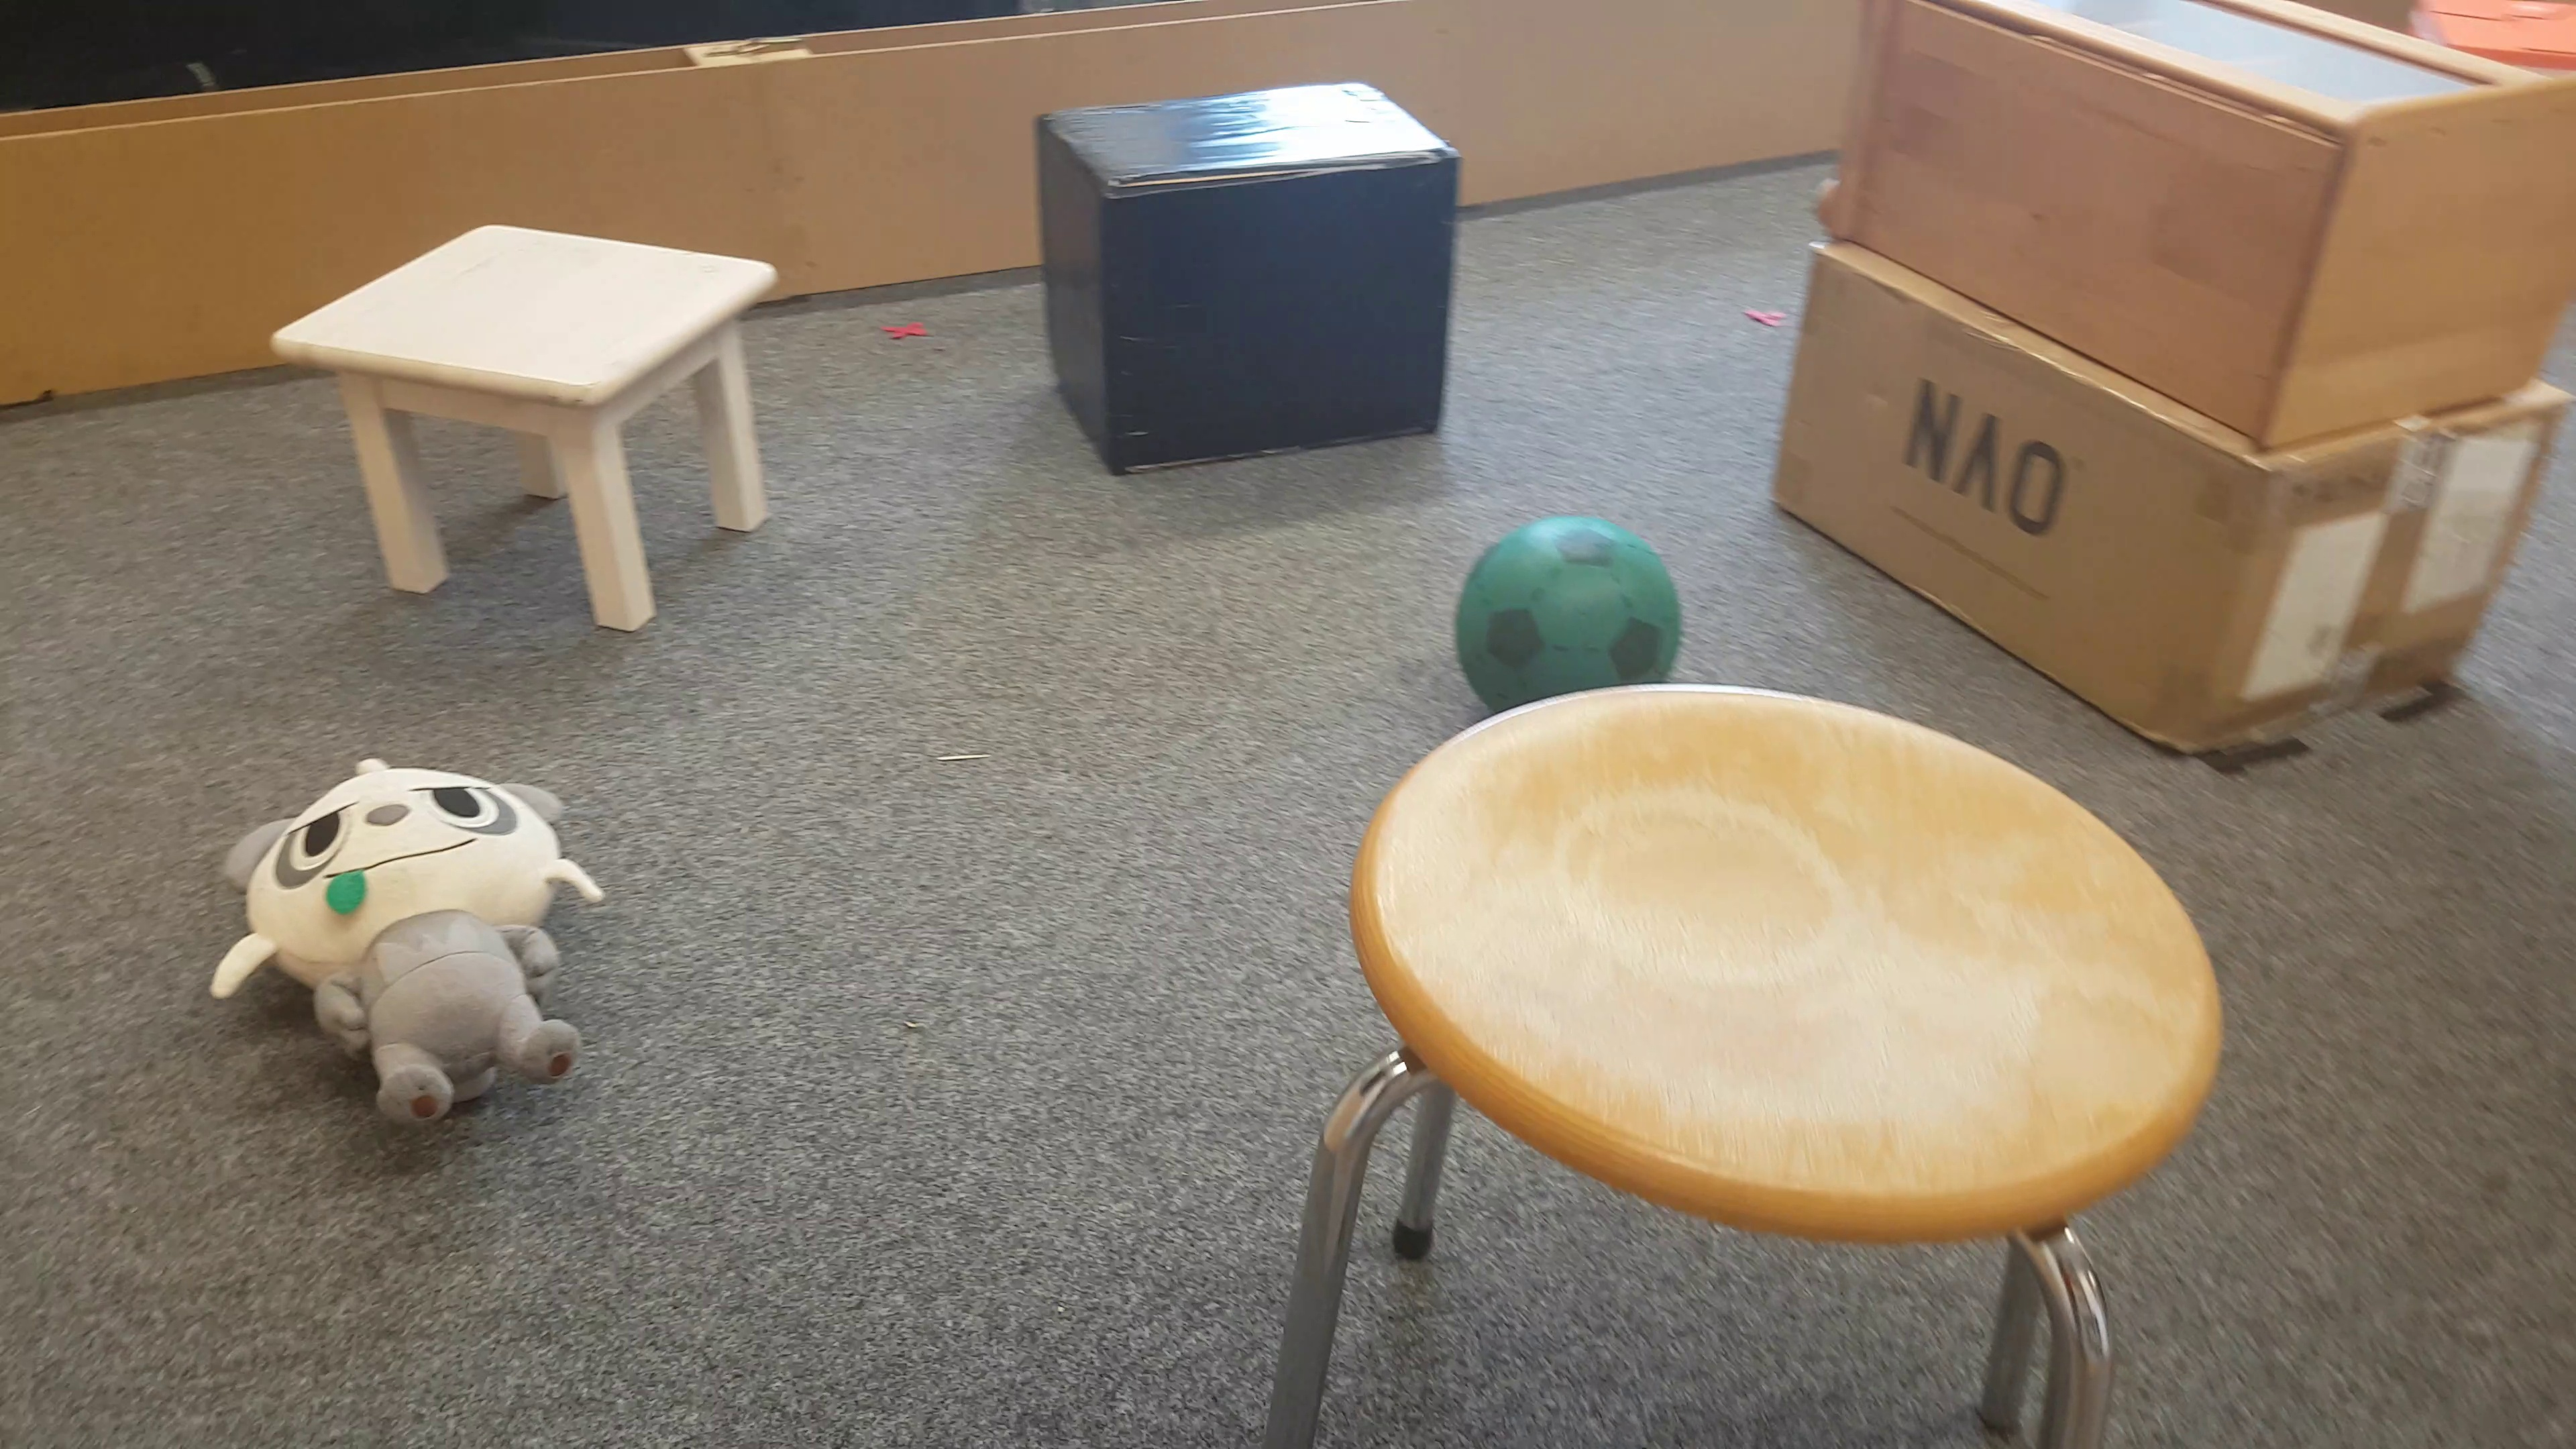grasp: (203, 757, 602, 1122)
kick: (1454, 517, 1681, 685)
push: (1033, 83, 1458, 481)
